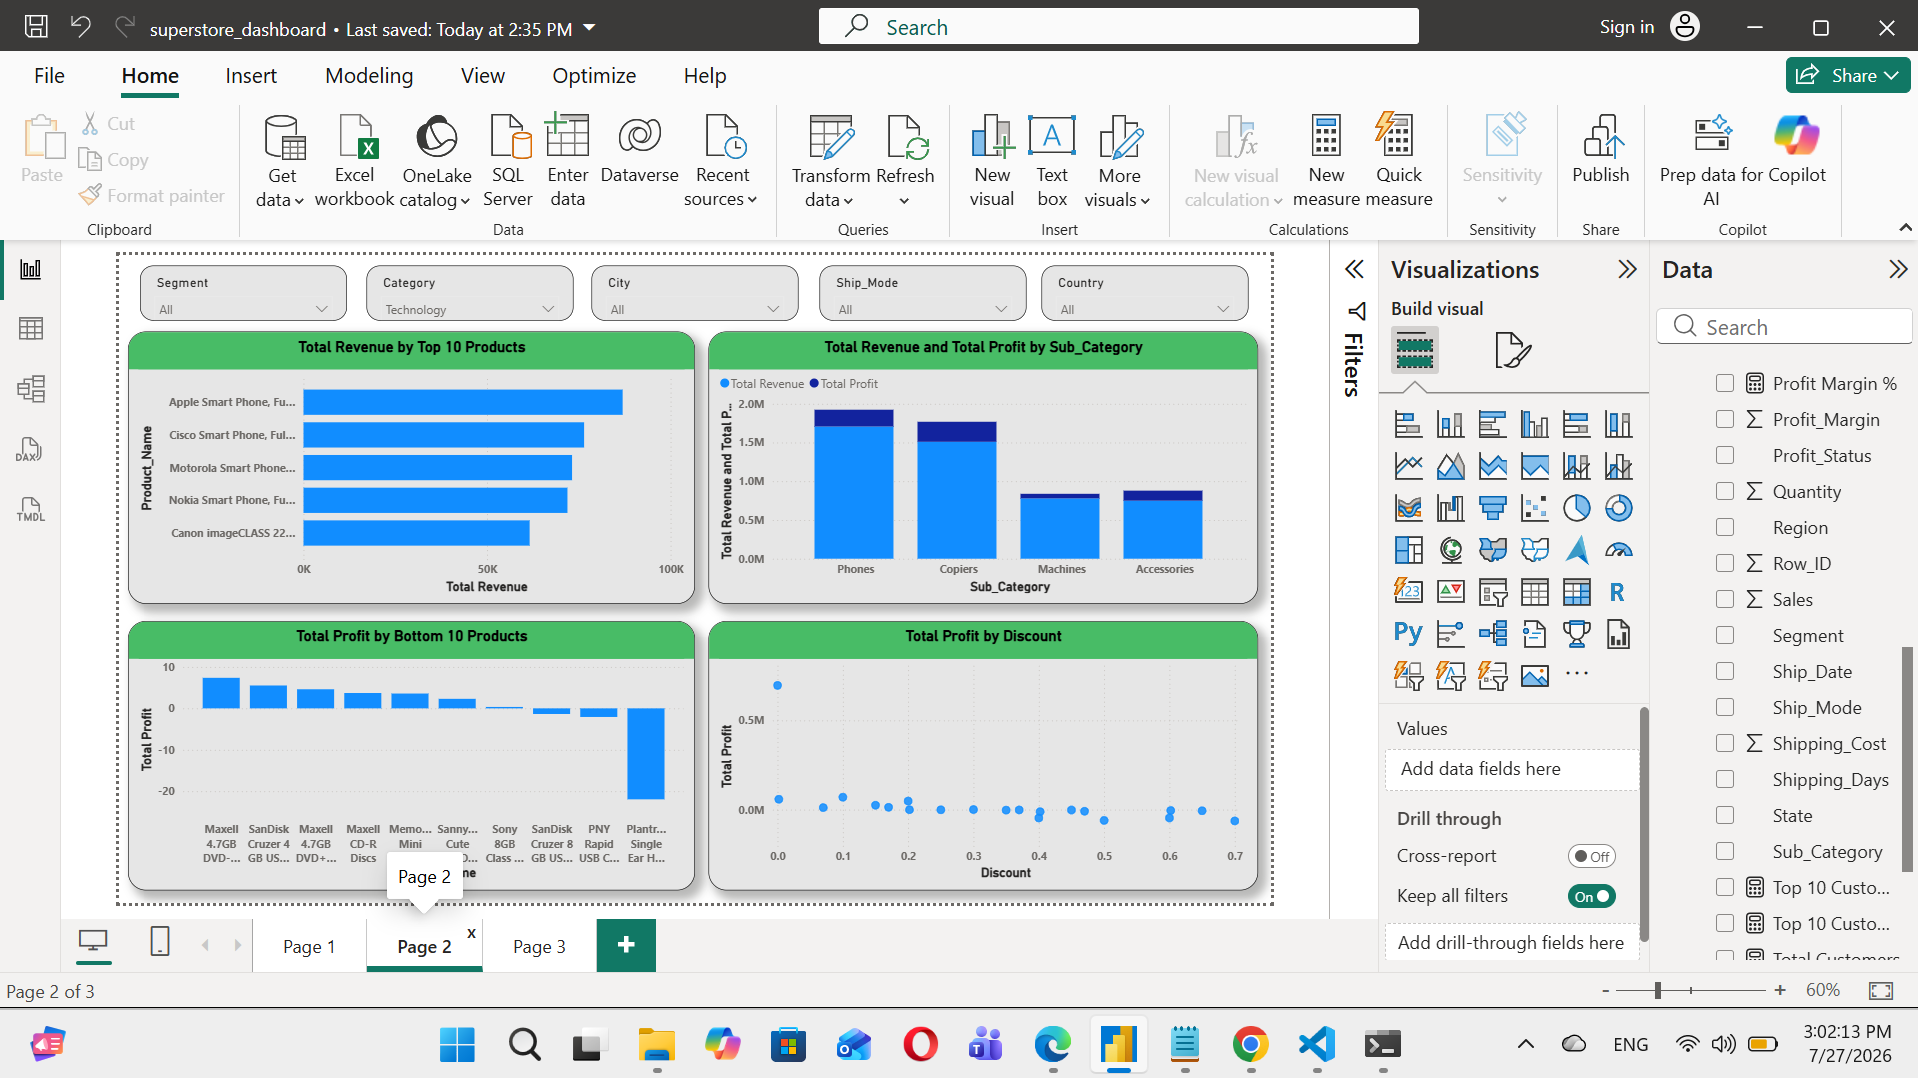

What the dashboard file says about the page in this screenshot:
{"tool":"powerbi","page":{"name":"Page 2","canvas":[1280,720],"ordinal":1},"visuals":[{"type":"barChart","title":"Total Revenue by Top 10 Products","fields":{"Category":["superstoredb sales.Product_Name"],"Y":["superstoredb sales.Total Revenue"]},"box":[9.7,84.2,629.9,302.8],"z":0},{"type":"columnChart","title":"Total Profit by Bottom 10 Products","fields":{"Category":["superstoredb sales.Product_Name"],"Y":["superstoredb sales.Total Profit"]},"box":[9.7,406.4,629.9,299.6],"z":1000},{"type":"scatterChart","fields":{"Y":["superstoredb sales.Total Profit"],"X":["superstoredb sales.Discount"]},"box":[655.8,406.4,610.4,299.6],"z":2000},{"type":"columnChart","fields":{"Category":["superstoredb sales.Sub_Category"],"Y":["superstoredb sales.Total Revenue","superstoredb sales.Total Profit"]},"box":[655.8,84.2,610.4,302.8],"z":3000},{"type":"slicer","fields":{"Values":["superstoredb sales.Segment"]},"box":[22.7,11.3,229.9,61.5],"z":4000},{"type":"slicer","fields":{"Values":["superstoredb sales.Category"]},"box":[275.3,11.3,229.9,61.5],"z":5000},{"type":"slicer","fields":{"Values":["superstoredb sales.City"]},"box":[524.6,11.3,229.9,61.5],"z":6000},{"type":"slicer","fields":{"Values":["superstoredb sales.Ship_Mode"]},"box":[778.8,11.3,229.9,61.5],"z":7000},{"type":"slicer","fields":{"Values":["superstoredb sales.Country"]},"box":[1025,11.3,229.9,61.5],"z":8000}]}

Visuals, with their boxes on the page's 1280x720 design canvas (x1, y1, x2, y2). These are canvas units, not pixel positions in the 1918x1078 screenshot, which may show the page scaled, cropped or inside an application window:
"Total Revenue by Top 10 Products" barChart: pyautogui.locateOnScreen(10, 84, 640, 387)
"Total Profit by Bottom 10 Products" columnChart: pyautogui.locateOnScreen(10, 406, 640, 706)
scatterChart - superstoredb sales.Total Profit x superstoredb sales.Discount: pyautogui.locateOnScreen(656, 406, 1266, 706)
columnChart - superstoredb sales.Sub_Category x superstoredb sales.Total Revenue: pyautogui.locateOnScreen(656, 84, 1266, 387)
slicer - superstoredb sales.Segment: pyautogui.locateOnScreen(23, 11, 253, 73)
slicer - superstoredb sales.Category: pyautogui.locateOnScreen(275, 11, 505, 73)
slicer - superstoredb sales.City: pyautogui.locateOnScreen(525, 11, 754, 73)
slicer - superstoredb sales.Ship_Mode: pyautogui.locateOnScreen(779, 11, 1009, 73)
slicer - superstoredb sales.Country: pyautogui.locateOnScreen(1025, 11, 1255, 73)
